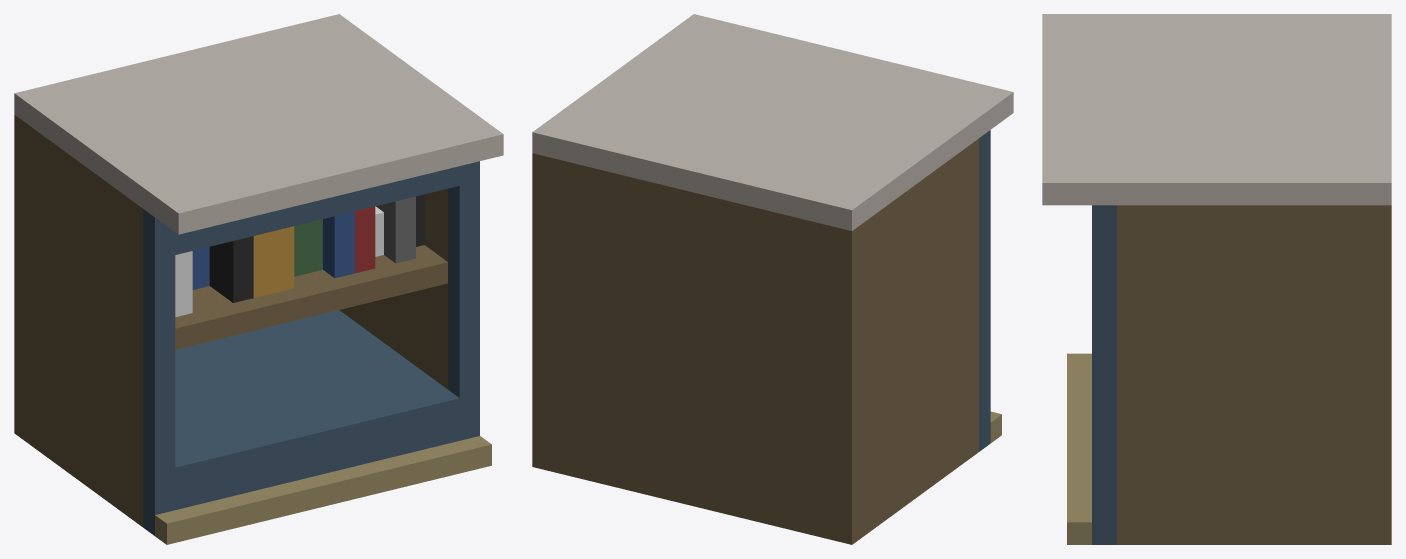
The model's file is CounterShelf.obj.
3 renders of one model, left to right at view 1: azimuth 30°, elevation 25°; view 2: azimuth 150°, elevation 25°; view 3: azimuth 270°, elevation 25°, orthographic. The views are drawn at different scales.
Visible parts, largest first — view 1: CounterShelf; view 2: CounterShelf; view 3: CounterShelf.
Part boxes in pixels (x1,y1,x2,y2): CounterShelf: (14,14,503,544); CounterShelf: (532,14,1013,544); CounterShelf: (1042,14,1391,544).
Size of the model in its own units: 16 by 16 by 14.
1 material, 1 textured.
